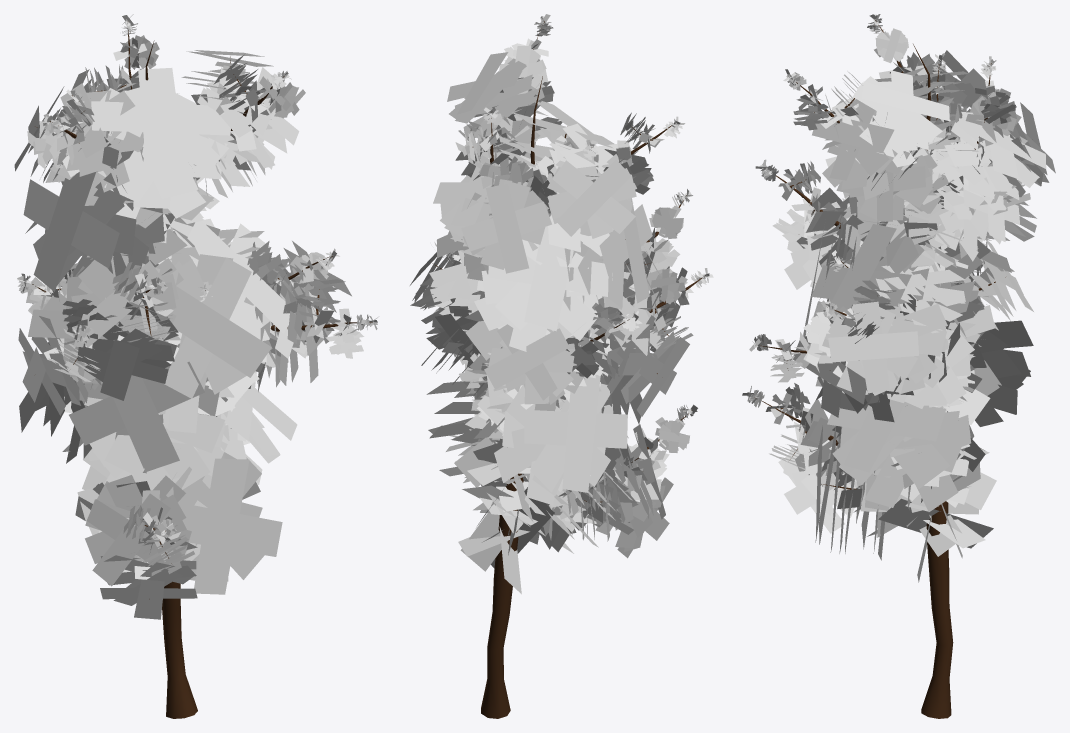
File: koks8mesh.fbx
3 renders of one model, left to right at view 1: azimuth 30°, elevation 25°; view 2: azimuth 150°, elevation 25°; view 3: azimuth 270°, elevation 25°, orthographic. The views are drawn at different scales.
Visible parts, largest first — view 1: Koks3.002; view 2: Koks3.002; view 3: Koks3.002.
Boxes of the visible parts, x1,y1,x2,y2 form: Koks3.002: [14, 14, 377, 718]; Koks3.002: [410, 14, 713, 718]; Koks3.002: [742, 14, 1055, 718].
Bounding box in the file's own units: 12.05 × 27.38 × 11.87.
